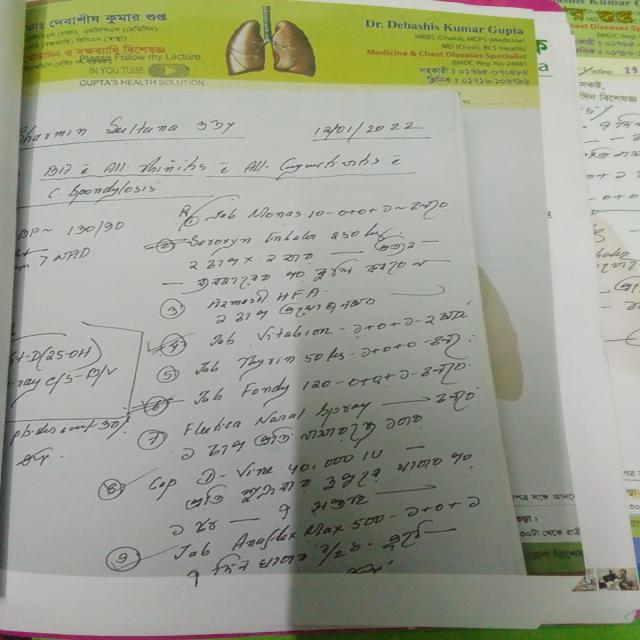Anaflex Max: (232, 523, 346, 549)
Azmasol HFA: (200, 286, 328, 310)
D-Vine: (193, 463, 280, 482)
Flutica: (182, 417, 249, 439)
Fondy: (237, 378, 297, 403)
Monas: (249, 205, 303, 223)
Seroxyn: (189, 231, 256, 250)
Thyrin: (237, 349, 300, 371)
Vitabion: (249, 324, 337, 343)
